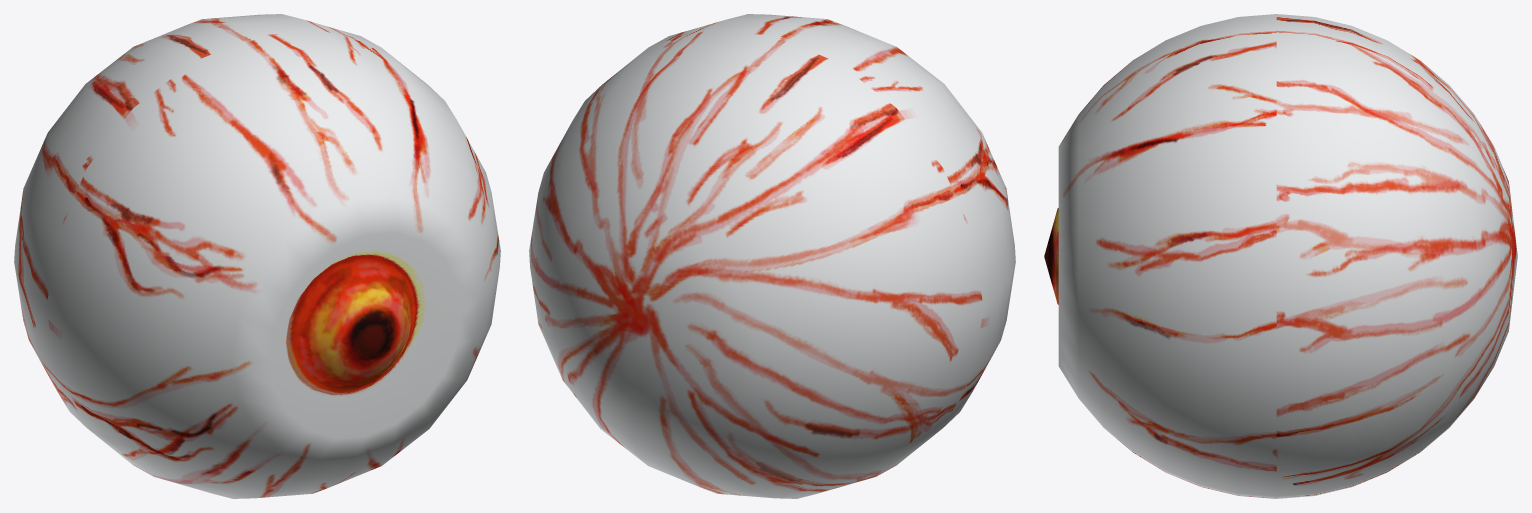
Rendered from eyeBallTexture.fbx.
3 views of the same model, side by side, from view 1: azimuth 30°, elevation 25°; view 2: azimuth 150°, elevation 25°; view 3: azimuth 270°, elevation 25° (orthographic).
Visible parts, largest first — view 1: pSphere1; view 2: pSphere1; view 3: pSphere1.
Boxes of the visible parts, box(x1,y1,x2,y2) form: pSphere1: box(14, 14, 500, 498); pSphere1: box(529, 14, 1015, 498); pSphere1: box(1044, 14, 1517, 498).
Bounding box in the file's own units: 132 × 137 × 137.
